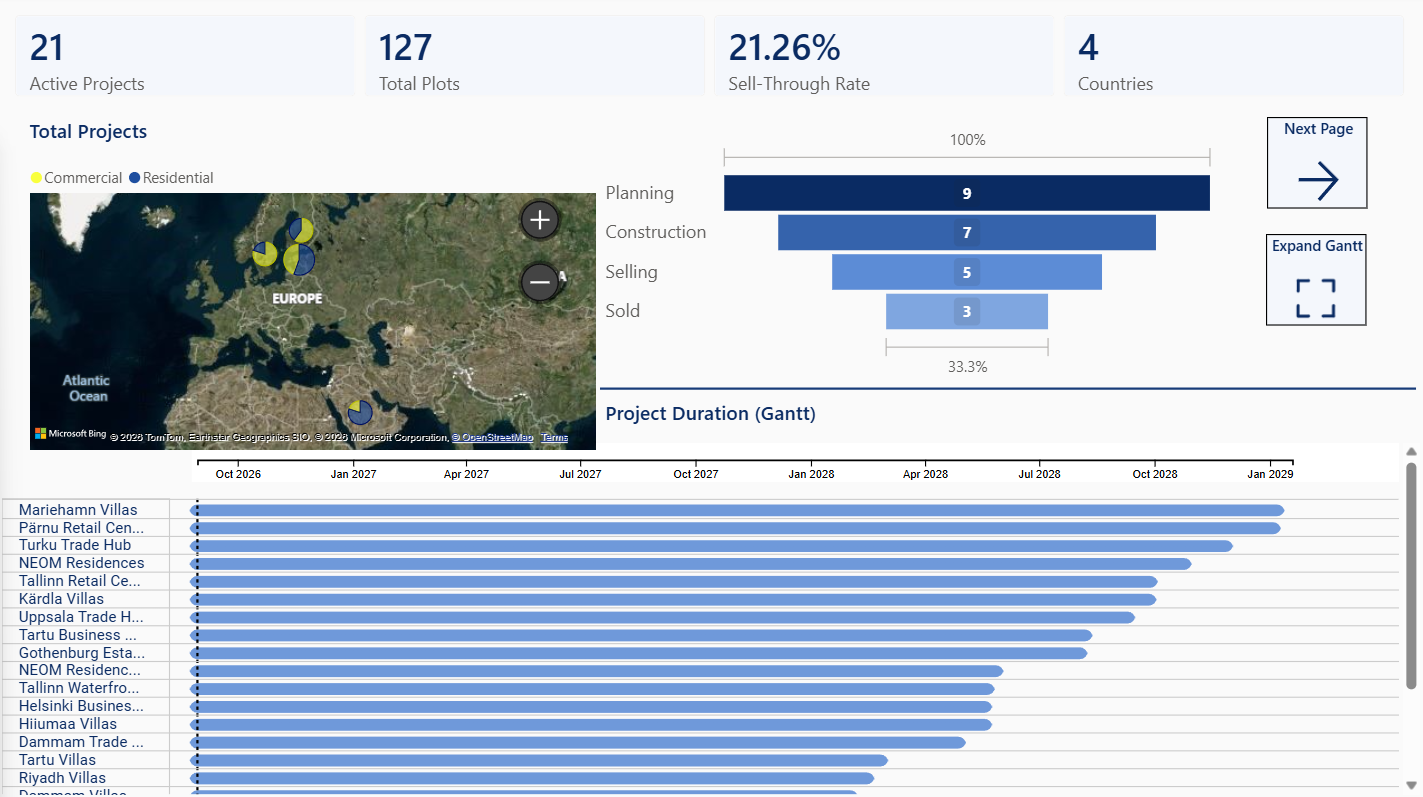

The dashboard page shown, as its layout file describes it:
{"tool":"powerbi","page":{"name":"Page 1 - Project Portfolio","canvas":[1280,720],"ordinal":0},"visuals":[{"type":"shape","box":[541.1,201.3,730.8,300.2],"z":0},{"type":"Gantt1448688115699","title":"Project Duration (Gantt)","fields":{"Duration":["Dim_Project.Project Duration (Days)"],"Task":["Dim_Project.project_name"]},"box":[0,360.5,1280,359.4],"z":1000},{"type":"cardVisual","fields":{"Data":["Fact_Plots.Active Projects","Fact_Plots.Total Plots","Fact_Plots.Sell-Through Rate","Count(Fact_Plots.country)"]},"box":[0,0,1280,108],"z":3000},{"type":"map","title":"Total Projects","fields":{"Category":["Dim_Project.country"],"Series":["Dim_Project.project_type"],"Size":["Dim_Project.Project Count"]},"box":[25.1,108.4,516.8,303.5],"z":4000},{"type":"funnel","fields":{"Category":["Dim_Project.status"],"Y":["Dim_Project.Project Count"]},"box":[541.1,111.7,556.2,235.1],"z":5000},{"type":"actionButton","title":"Next Page","box":[1138.5,108.4,90.5,81.7],"z":6000},{"type":"actionButton","title":"Expand Gantt","box":[1137.4,213.3,90.1,82.1],"z":8000}]}

Visuals, with their boxes in screenshot pixels (x1, y1, x2, y2), scaled from the page's 1280x720 canvas onto the 1423x797 screenshot:
shape: l=602, t=223, r=1414, b=555
"Project Duration (Gantt)" Gantt1448688115699: l=0, t=399, r=1422, b=796
cardVisual - Fact_Plots.Active Projects x Fact_Plots.Total Plots: l=0, t=0, r=1422, b=120
"Total Projects" map: l=28, t=120, r=602, b=456
funnel - Dim_Project.status x Dim_Project.Project Count: l=602, t=124, r=1220, b=384
"Next Page" actionButton: l=1266, t=120, r=1366, b=210
"Expand Gantt" actionButton: l=1264, t=236, r=1365, b=327
